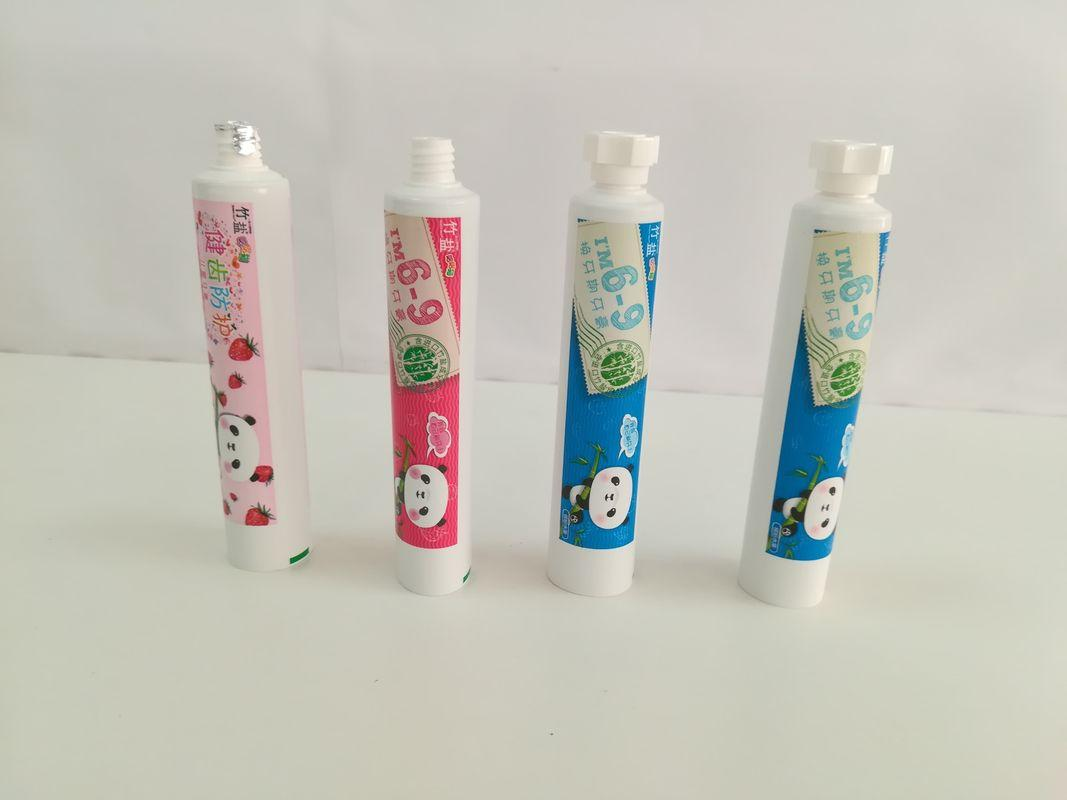toothpaste: (717, 117, 907, 632), (179, 105, 332, 574), (385, 116, 497, 613), (564, 122, 671, 617)
